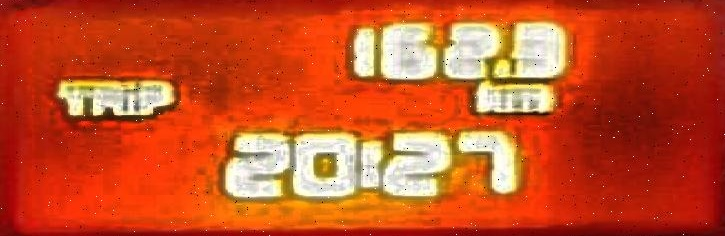-: (490, 57, 510, 78)
0: (285, 131, 356, 197)
1: (347, 25, 376, 79)
2: (218, 131, 289, 198), (381, 130, 450, 197), (439, 21, 501, 78)
3: (507, 20, 569, 79)
6: (376, 21, 434, 80)
7: (454, 128, 520, 193)
X: (500, 81, 554, 112), (354, 140, 385, 190), (52, 78, 90, 116), (134, 79, 174, 115), (87, 77, 120, 116), (472, 79, 503, 112)
